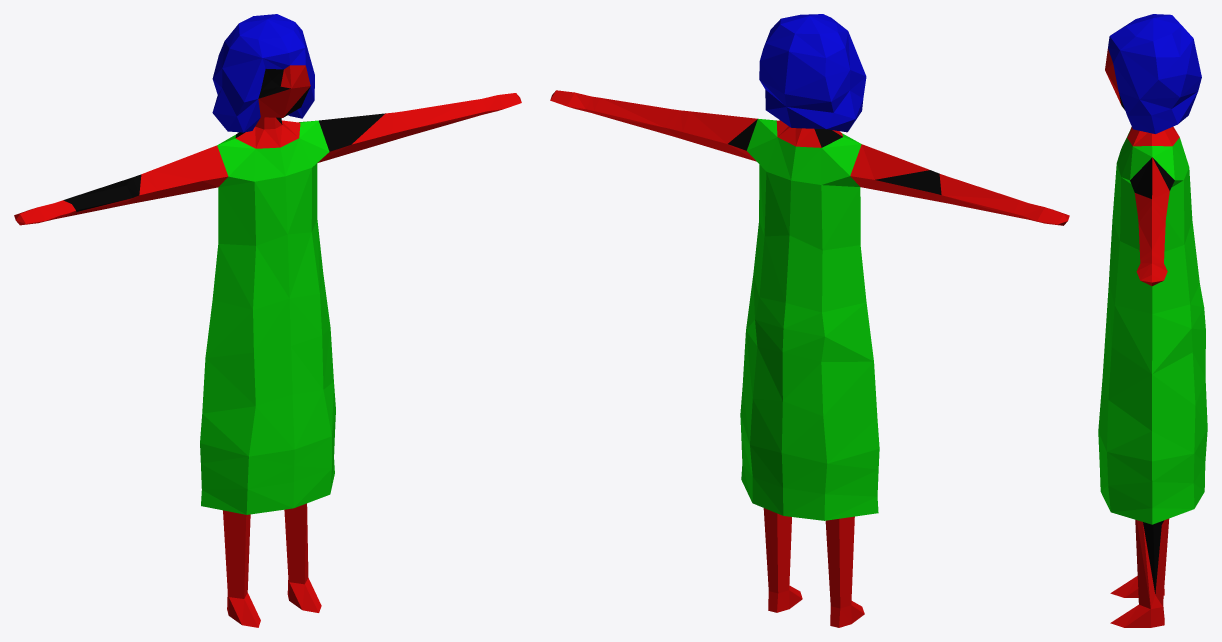
File: Zombies_Female_Elder_NoArmature.fbx
3 renders of one model, left to right at view 1: azimuth 30°, elevation 25°; view 2: azimuth 150°, elevation 25°; view 3: azimuth 270°, elevation 25°, orthographic. The views are drawn at different scales.
Visible parts, largest first — view 1: Female_Elder; view 2: Female_Elder; view 3: Female_Elder.
Part boxes in pixels (x1,y1,x2,y2): Female_Elder: (14, 14, 521, 627); Female_Elder: (550, 14, 1069, 627); Female_Elder: (1098, 14, 1207, 627).
Size of the model in its own units: 137 by 152 by 25.48.
